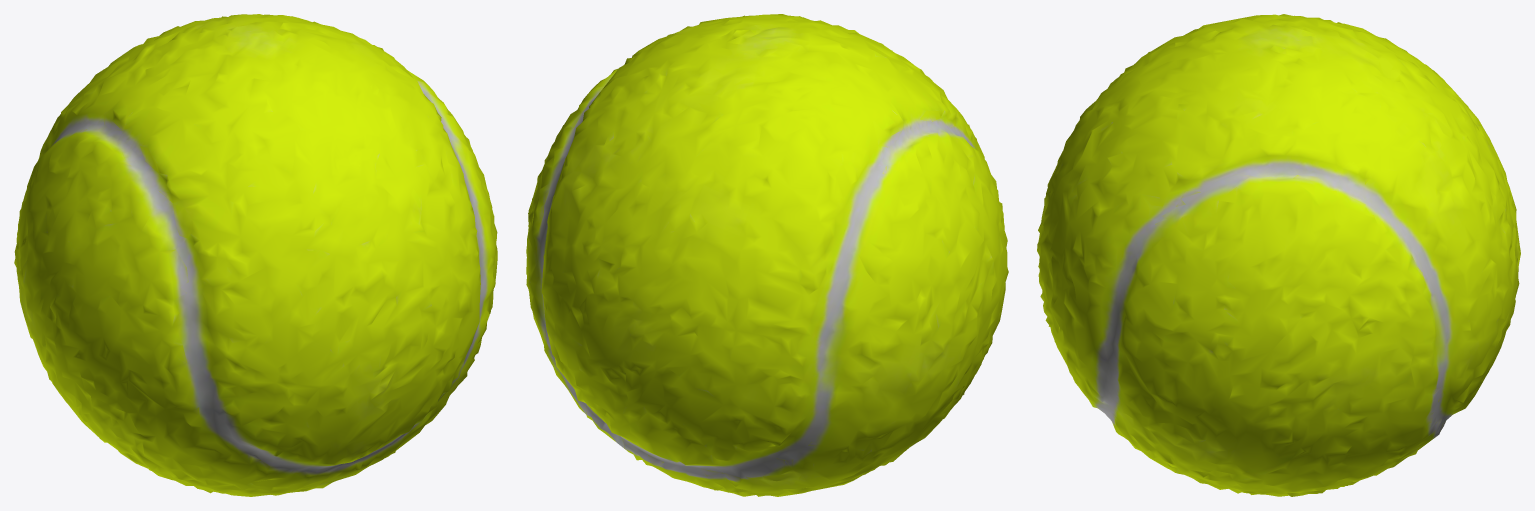
The model's file is tennis-ball-smooth-felt-web.glb.
3 views of the same model, side by side, from view 1: azimuth 30°, elevation 25°; view 2: azimuth 150°, elevation 25°; view 3: azimuth 270°, elevation 25° (orthographic).
Visible parts, largest first — view 1: defaultMaterial; view 2: defaultMaterial; view 3: defaultMaterial.
Part boxes in pixels (x1,y1,x2,y2): defaultMaterial: (14,14,497,496); defaultMaterial: (526,14,1008,496); defaultMaterial: (1037,14,1520,496).
Bounding box in the file's own units: 2 × 1.99 × 2.
1 material, 1 textured.
